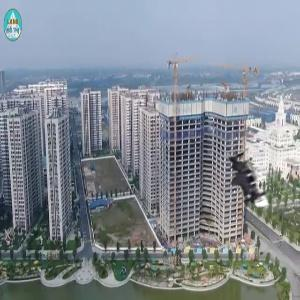drone: (206, 136, 289, 219)
